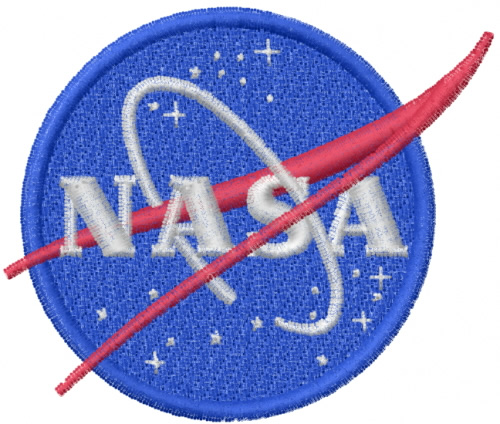NASA: (1, 1, 499, 423)
